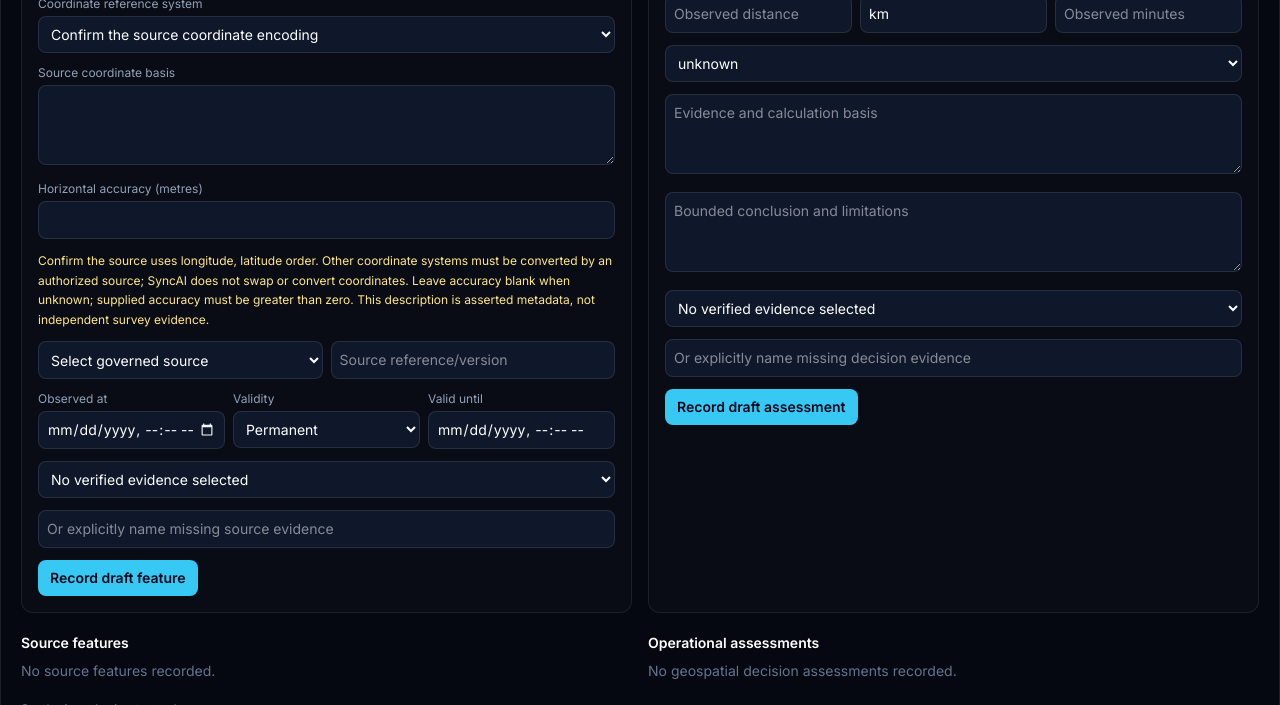
Test: SC-02 explicit coordinate authoring › refuses zero accuracy before any write
Earlier steps of the test are not shown.
(page scrolled)
Select "Synthetic supplied geometry · simulated industrial · simulated" in the dropdown named "Governed Context source" at (180, 360), box [38,341,322,379]
Type "synthetic-qualification-1" into the field with placeholder "Source reference/version" at (473, 360), box [330,341,615,379]
Type "2026-10-01T10:00" into the field labelled "Observed at" at (132, 430), box [38,411,225,449]
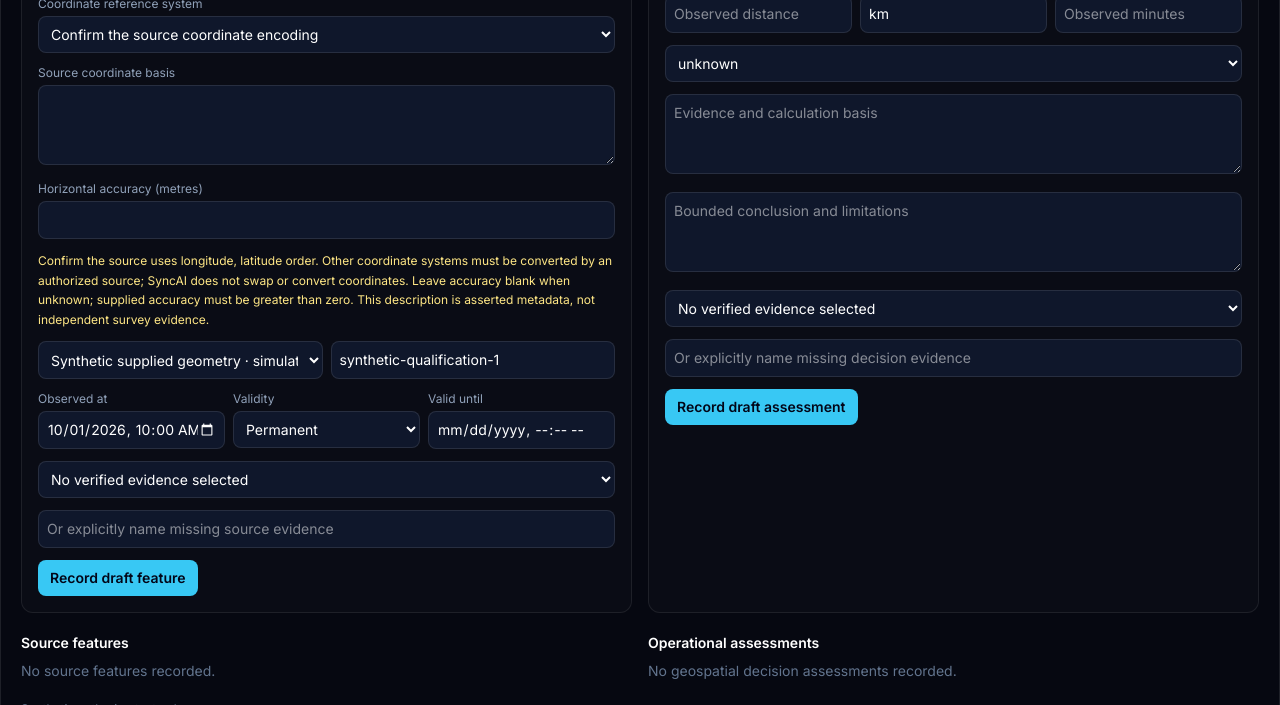
Type "Synthetic fixture: independent field survey unavailable." into the field with placeholder "Or explicitly name missing source evidence" at (326, 529), box [38,510,615,548]
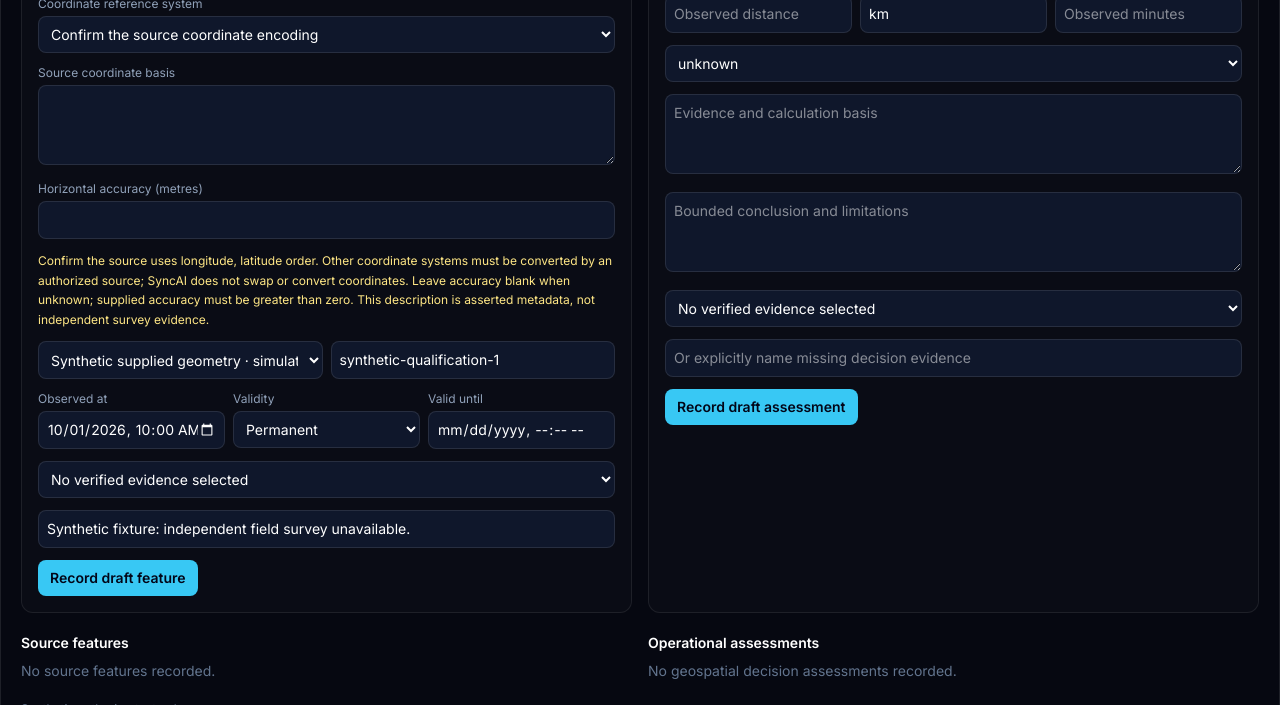
Select "WGS84 · EPSG:4326 · longitude, latitude" in the dropdown labelled "Coordinate reference system" at (326, 34), box [38,16,615,53]
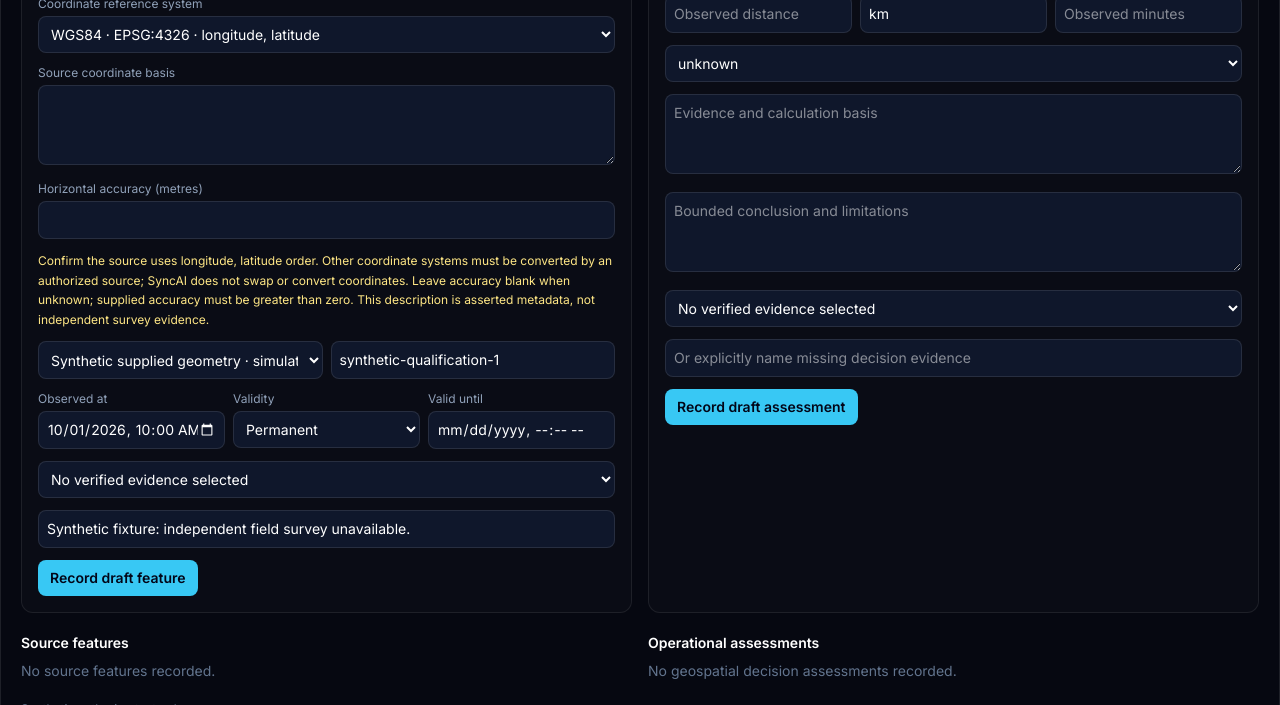
Type "Synthetic source explicitly declares WGS84 longitude/latitude." into the text box labelled "Source coordinate basis" at (326, 125), box [38,85,615,165]
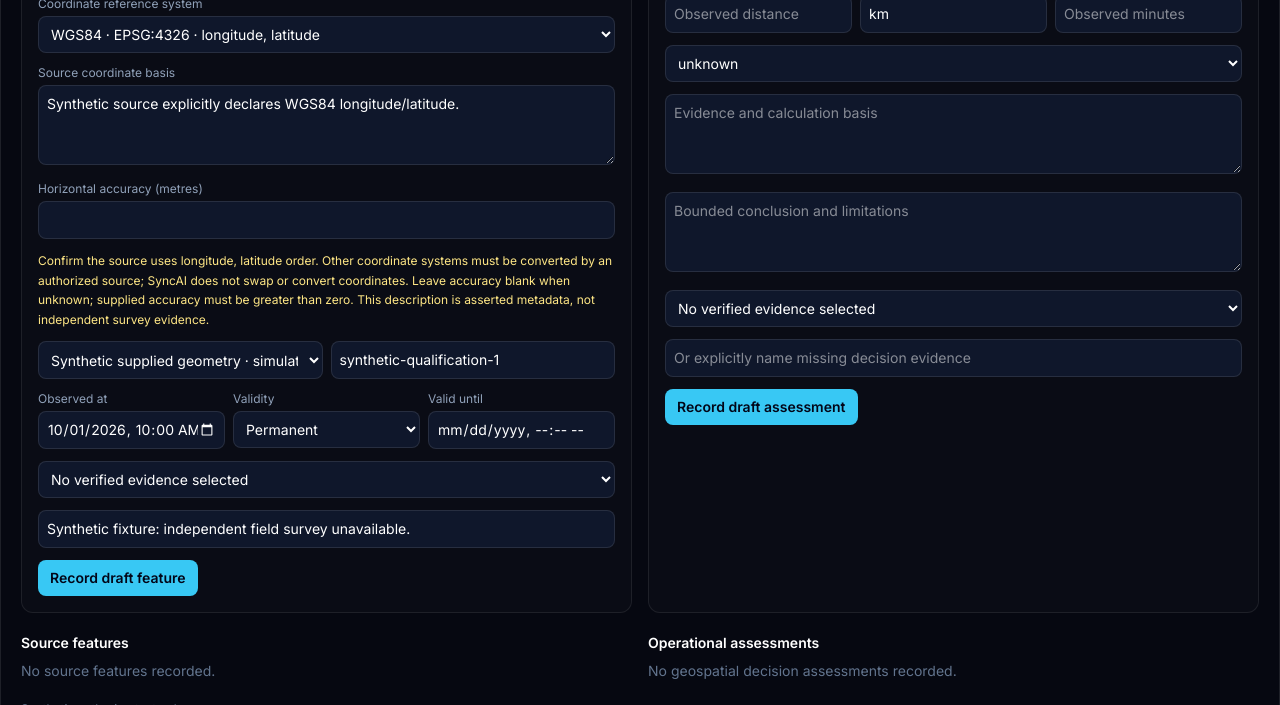
Type "0" into the number field labelled "Horizontal accuracy (metres)" at (326, 220), box [38,201,615,239]
(page scrolled)
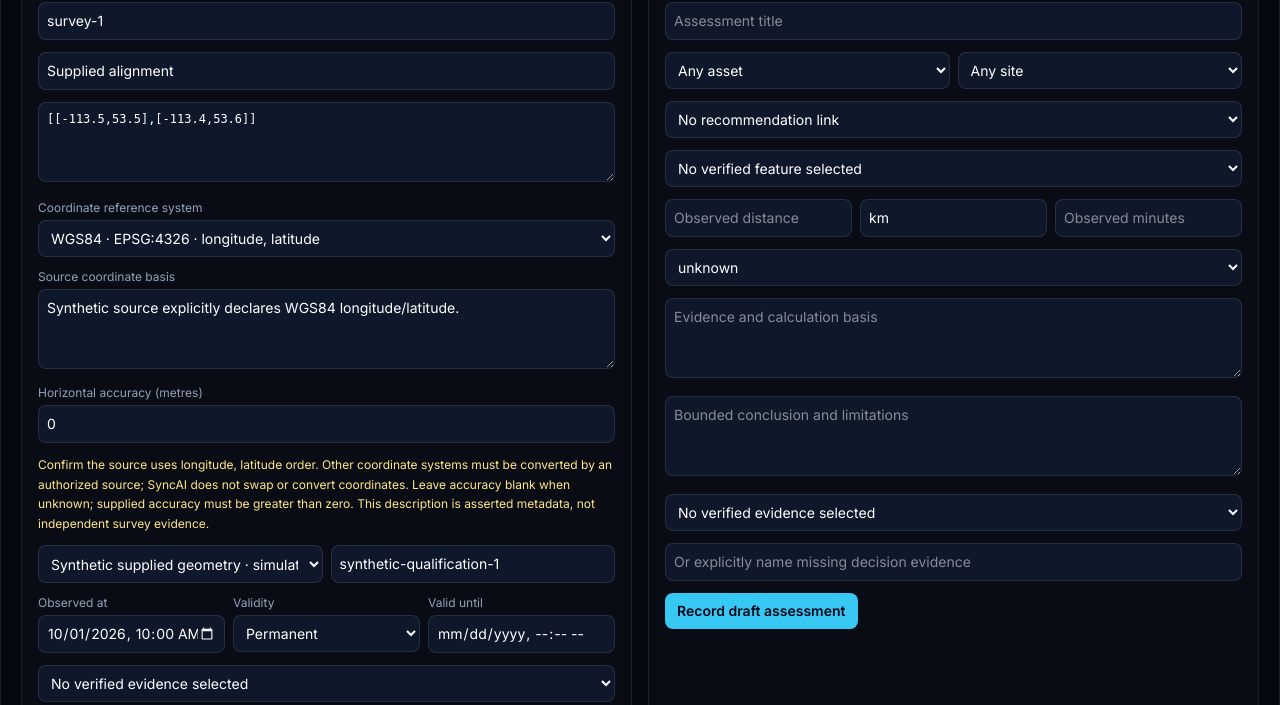
Submit the form named "Record draft feature"
(page scrolled)
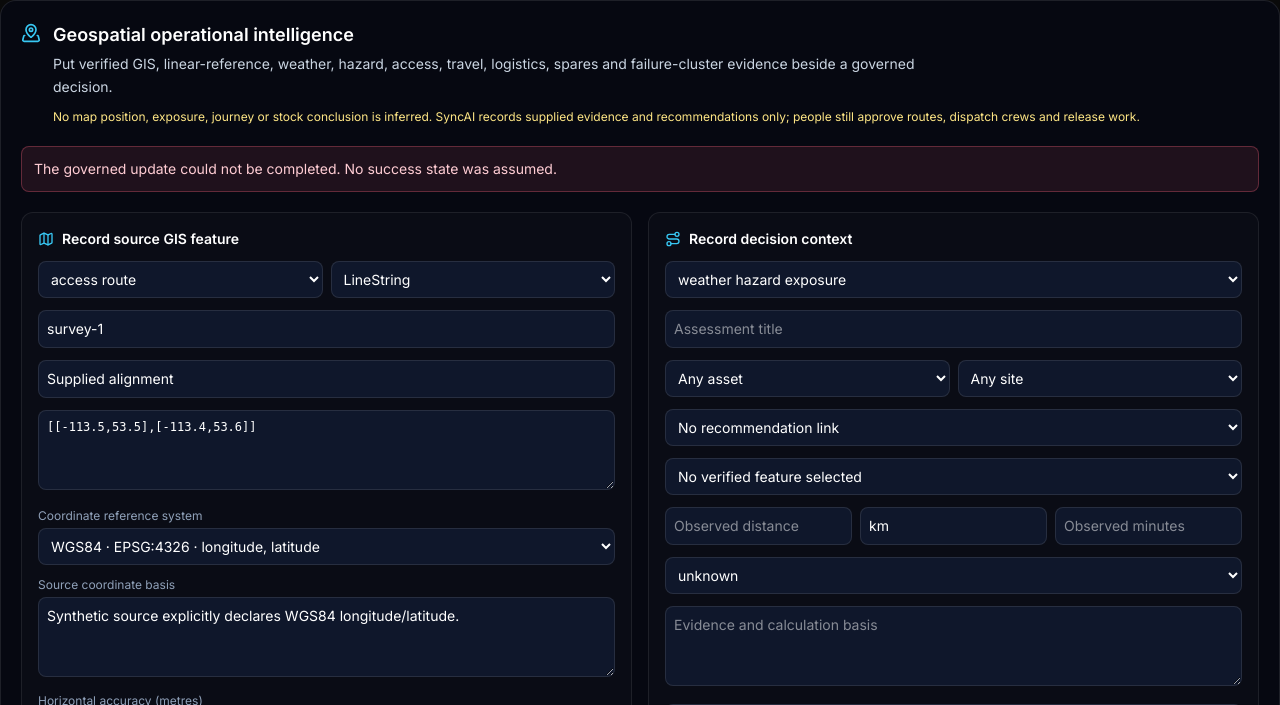
Expected: the message "The governed update could not be completed. No success state was assumed." is shown, [21,146,1259,192]
